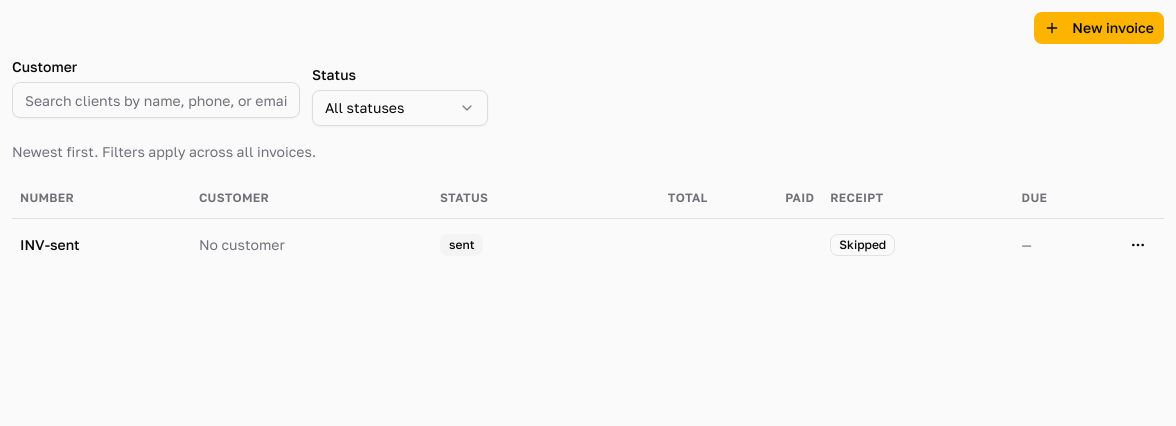
Test: invoice row actions › hides texting when the invoice has no bill-to contact
Step 1. Click the button named "Actions" → (1138, 244), box top-left (1120, 226), bottom-right (1156, 262)
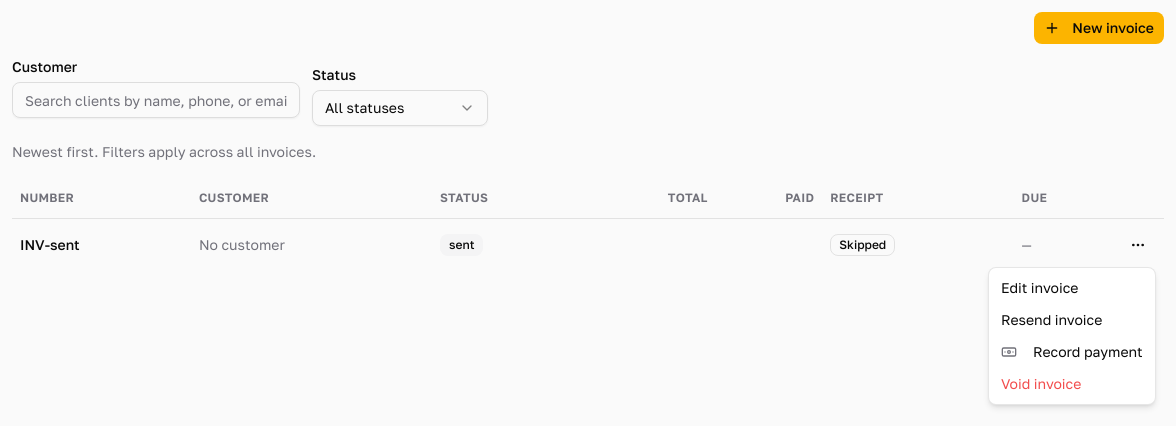
Check: the menu item "Resend invoice" is shown, box top-left (1001, 311), bottom-right (1102, 328)
